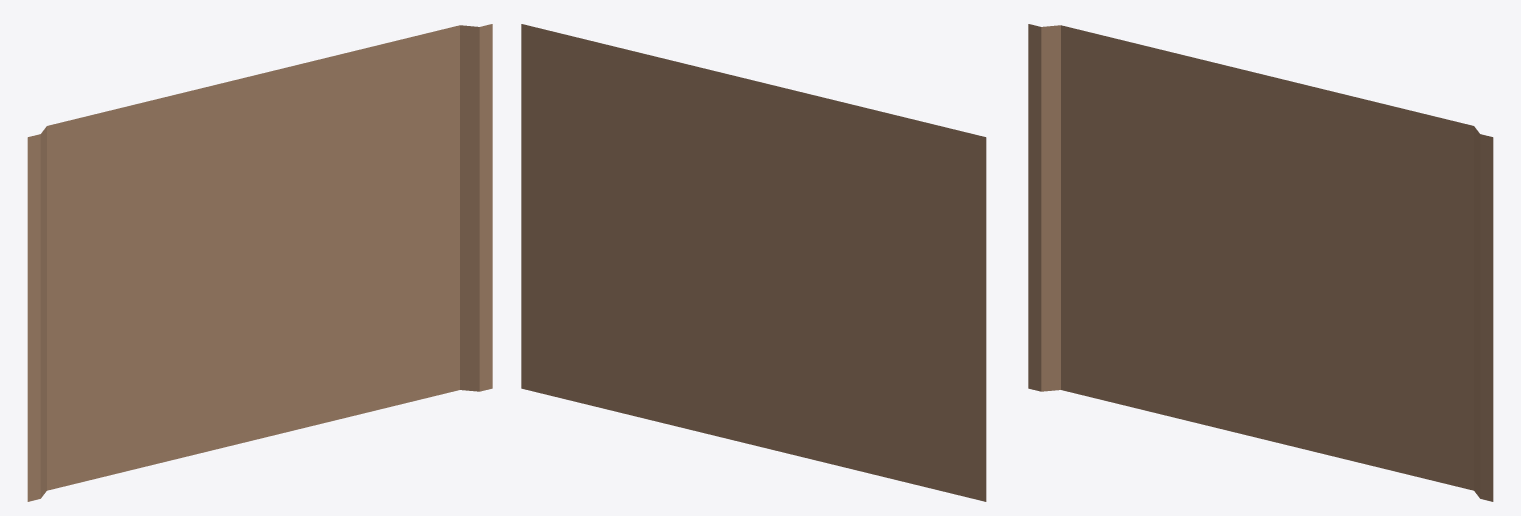
The model's file is env_block_brick_inset.glb.
The picture shows the model from 3 angles, left to right: view 1: azimuth 30°, elevation 25°; view 2: azimuth 150°, elevation 25°; view 3: azimuth 330°, elevation 25°; orthographic projection.
Parts seen in each view (by area): view 1: Brick_Inset.gltf; view 2: Brick_Inset.gltf; view 3: Brick_Inset.gltf.
Part boxes in pixels (x1=…): Brick_Inset.gltf: x1=27, y1=24, x2=492, y2=501; Brick_Inset.gltf: x1=521, y1=24, x2=986, y2=501; Brick_Inset.gltf: x1=1028, y1=24, x2=1493, y2=501.
Size of the model in its own units: 4 by 3 by 0.2.
